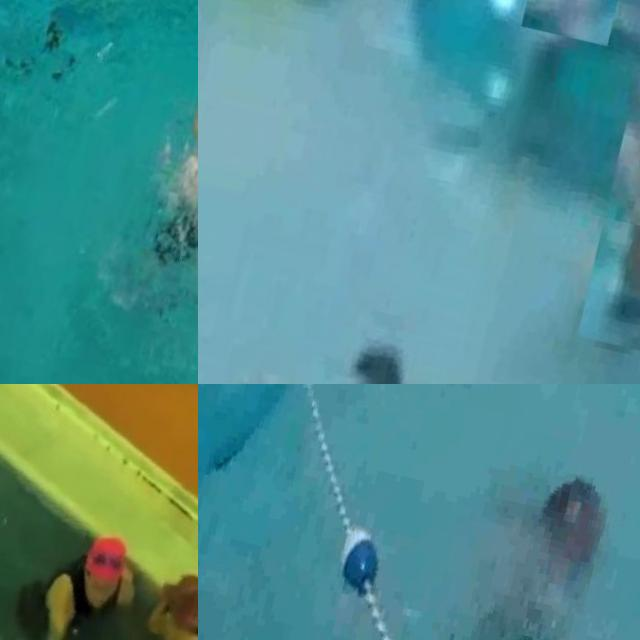drowning: (402, 419, 638, 640), (144, 0, 198, 304), (311, 295, 443, 384)
swimming: (575, 22, 640, 360), (0, 511, 153, 640), (128, 559, 198, 640), (519, 0, 627, 47)
